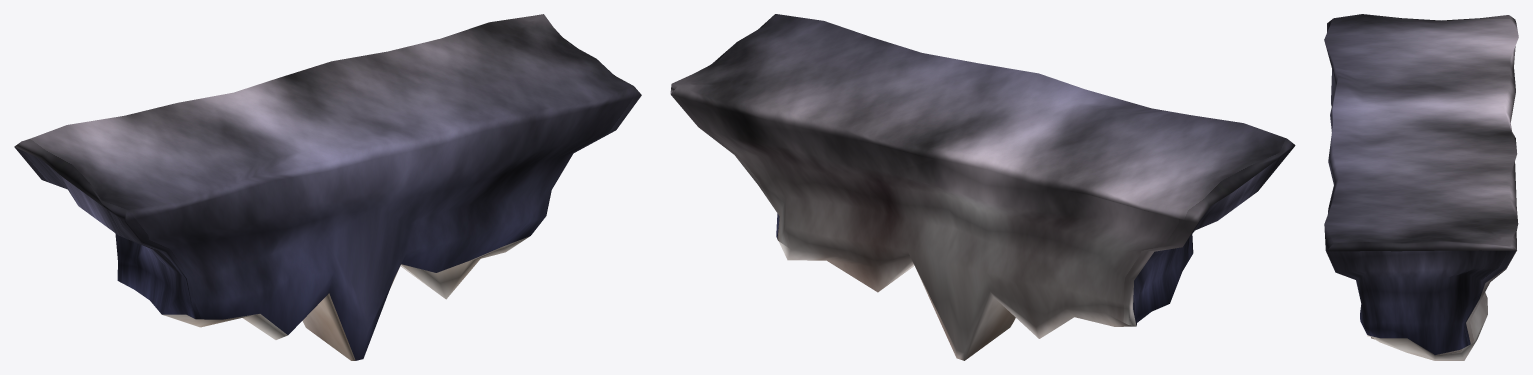
File: bigPlatformTEST2.fbx
3 views of the same model, side by side, from view 1: azimuth 30°, elevation 25°; view 2: azimuth 150°, elevation 25°; view 3: azimuth 270°, elevation 25° (orthographic). The views are drawn at different scales.
Visible parts, largest first — view 1: bigPlatform1; view 2: bigPlatform1; view 3: bigPlatform1.
Part boxes in pixels (left/top/right/bottom): bigPlatform1: left=14, top=14, right=641, bottom=360; bigPlatform1: left=670, top=14, right=1295, bottom=360; bigPlatform1: left=1324, top=14, right=1518, bottom=360.
Size of the model in its own units: 106 by 44.96 by 37.32.
1 material, 1 textured.
